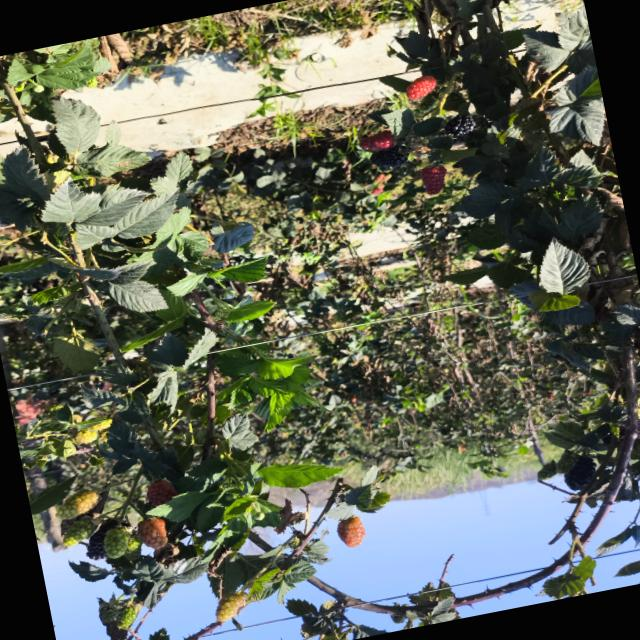maduro: (87, 520, 117, 560), (445, 114, 475, 138)
naranja: (137, 517, 167, 549), (337, 516, 366, 547), (406, 75, 437, 99), (421, 166, 447, 194), (360, 131, 395, 151)
verde: (57, 490, 100, 519), (216, 592, 246, 622), (63, 519, 95, 546), (104, 527, 131, 558), (118, 604, 140, 629), (100, 603, 118, 624)
